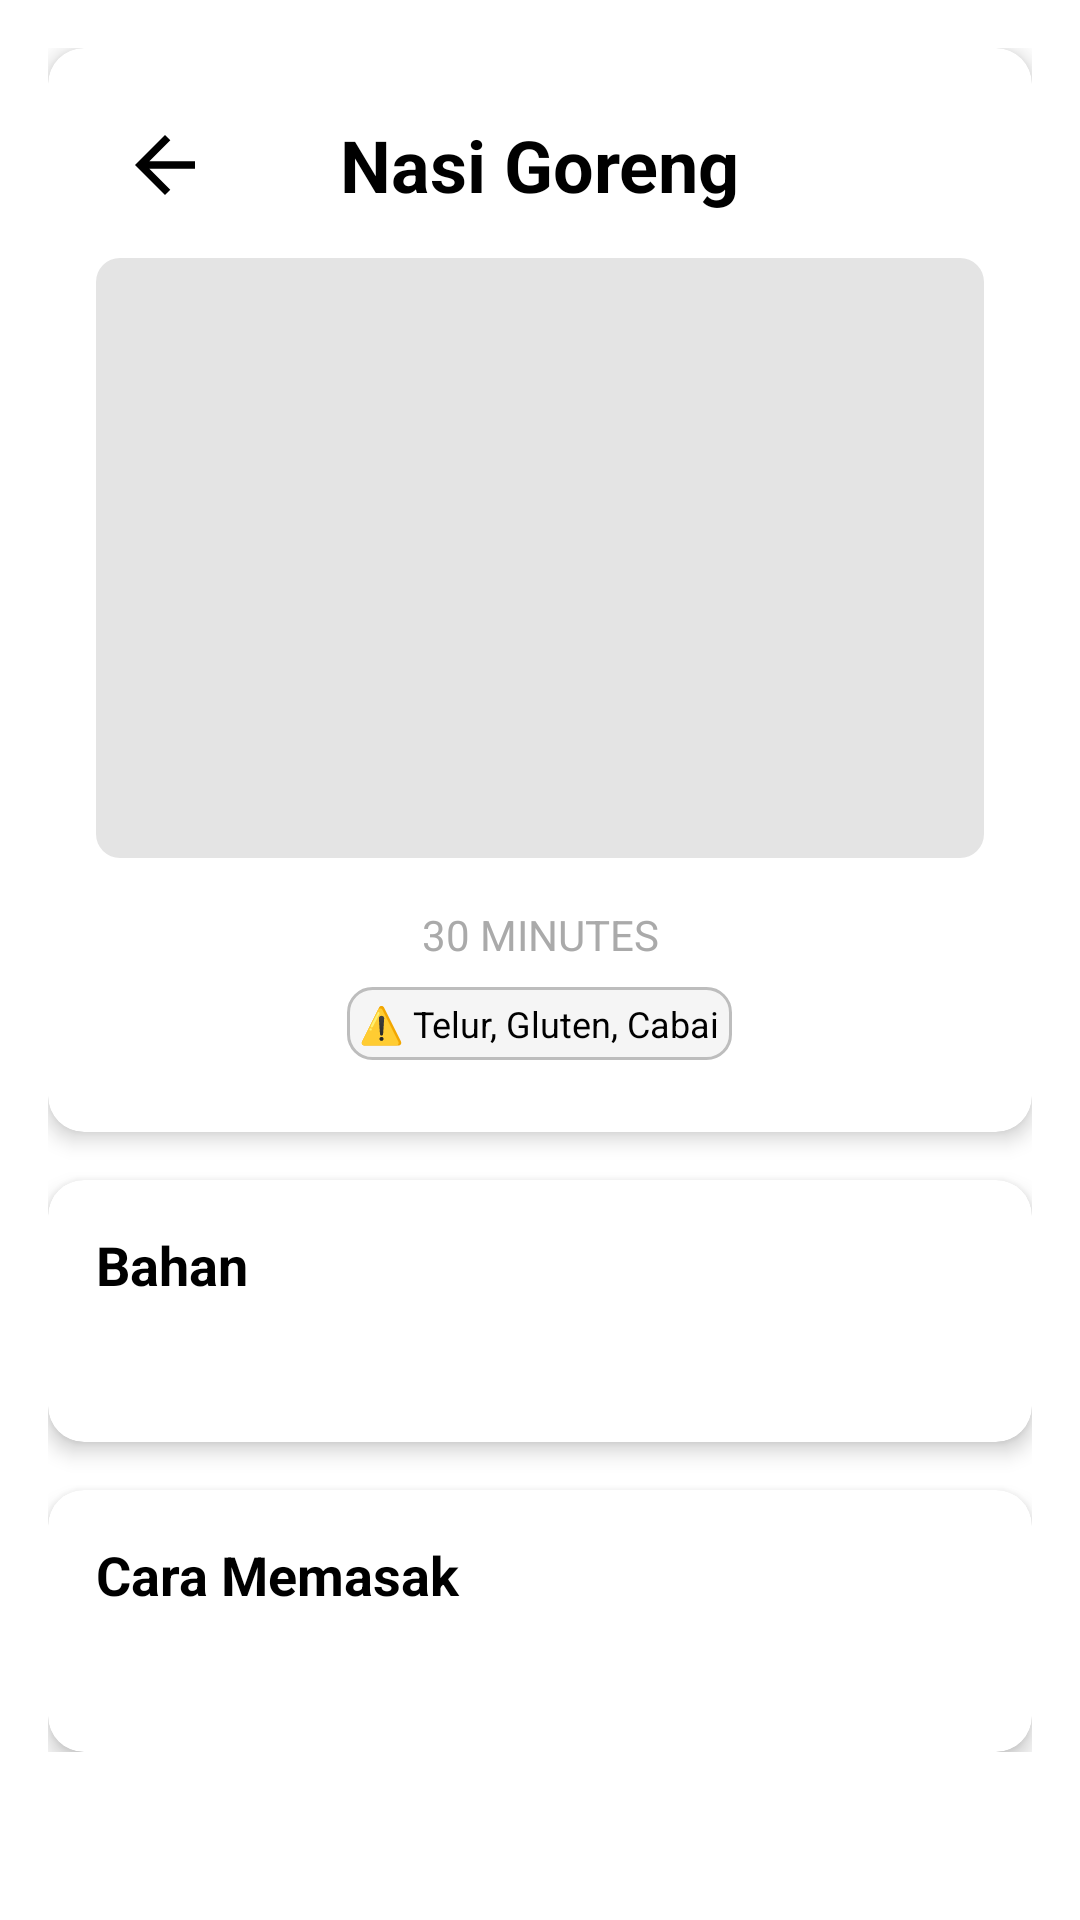

Icon click points for this 1080w x 1920h phone screenshot, format (x,y):
Back: (165,165)
